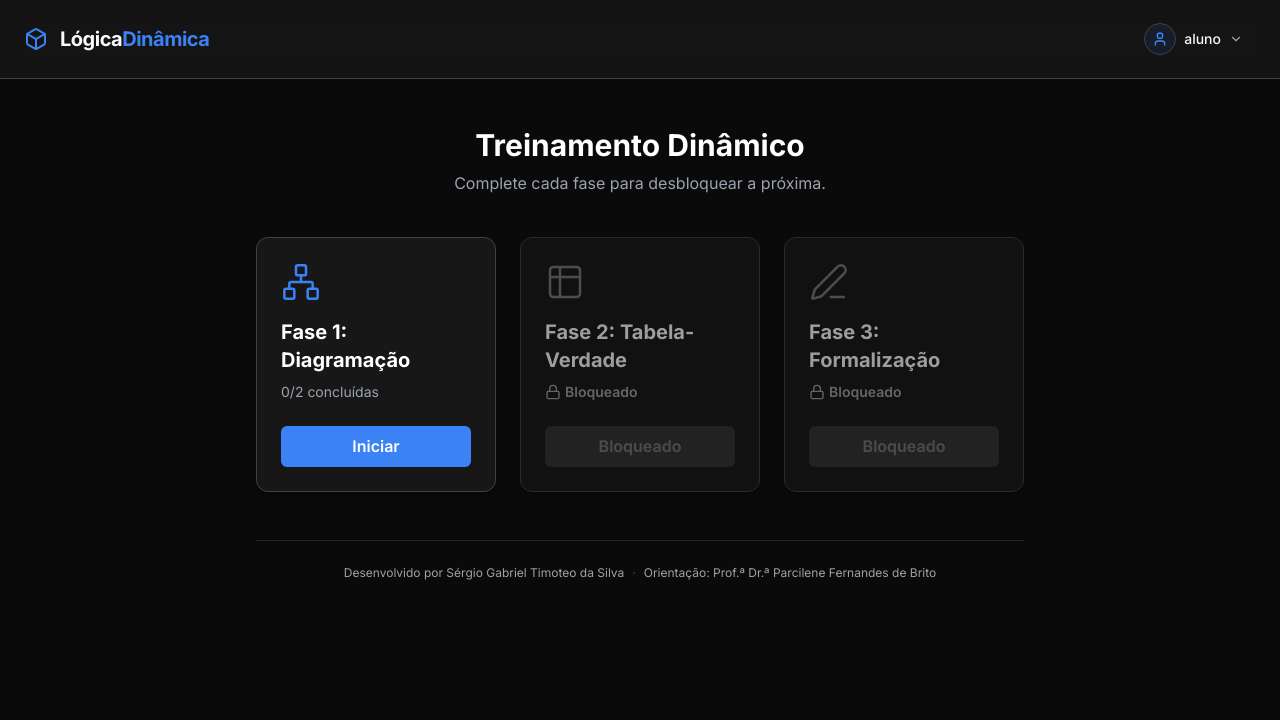
Test case: Modal de saída durante a fase › retorna ao Lobby ao confirmar saída
Step 1. Click the button "Iniciar" → [376, 446], box [281,426,471,467]
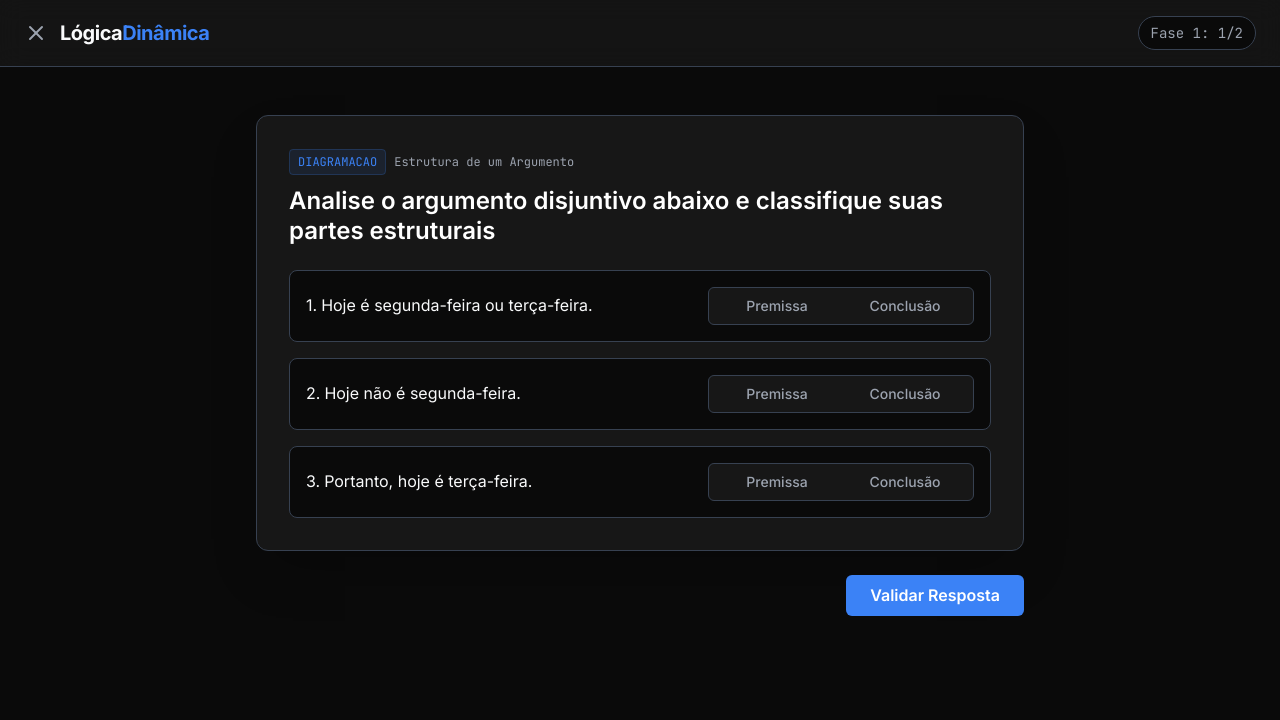
Step 2. Click the button named "Fechar" → [36, 33], box [24,21,48,45]
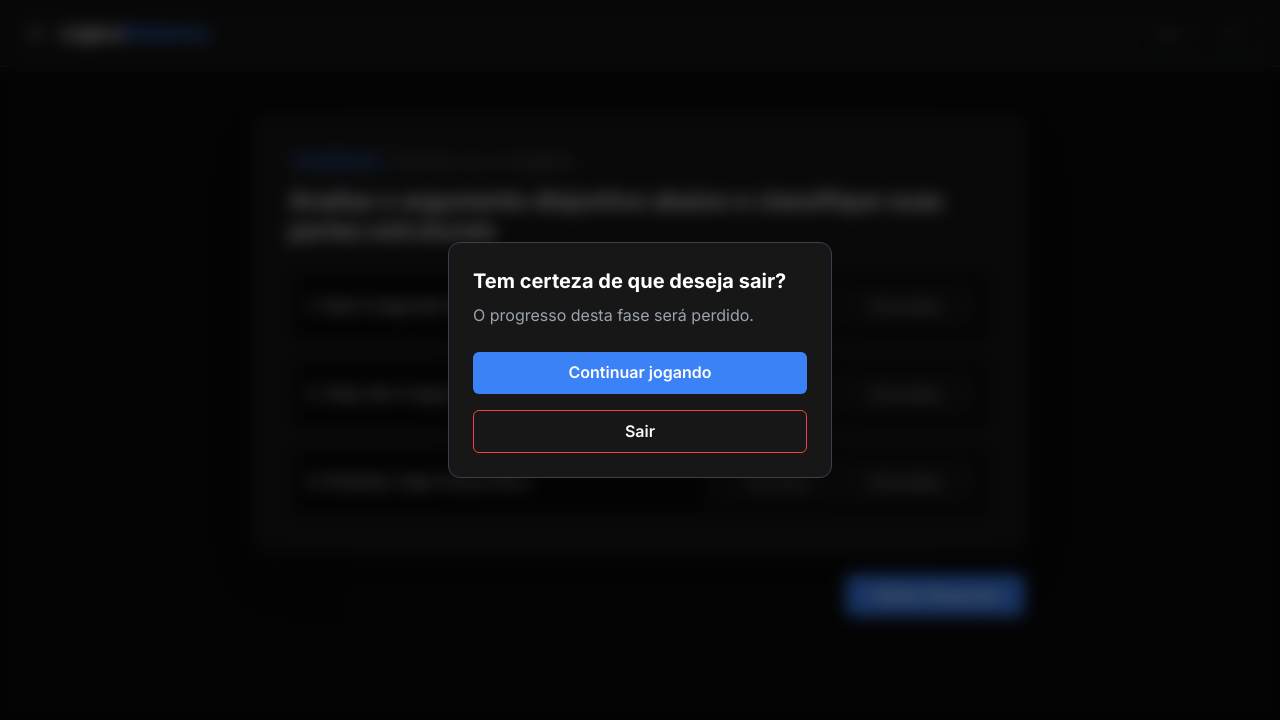
Step 3. Click the button "Sair" → [640, 432], box [473,410,807,453]
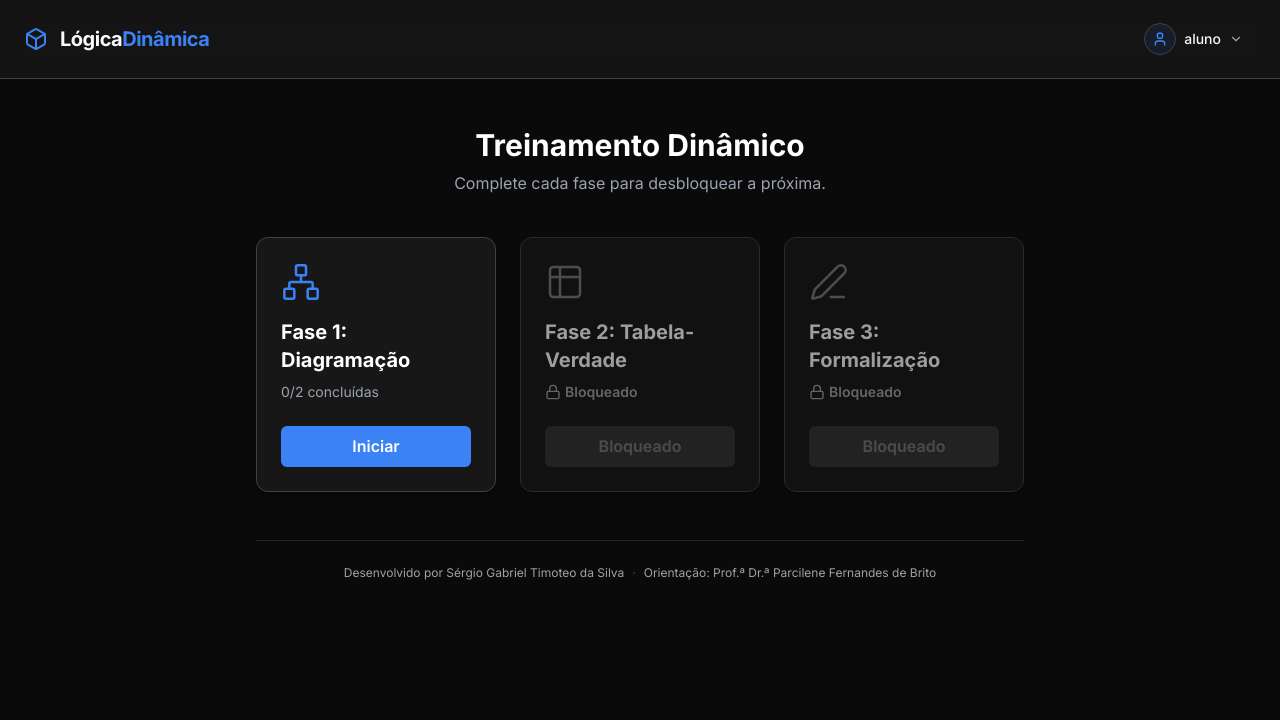
Check: the heading "Fase 1: Diagramação" is shown, box [281,320,410,372]
Check: the heading "Fase 2: Tabela-Verdade" is shown, box [545,320,694,372]
Check: the heading "Fase 3: Formalização" is shown, box [809,320,940,372]
